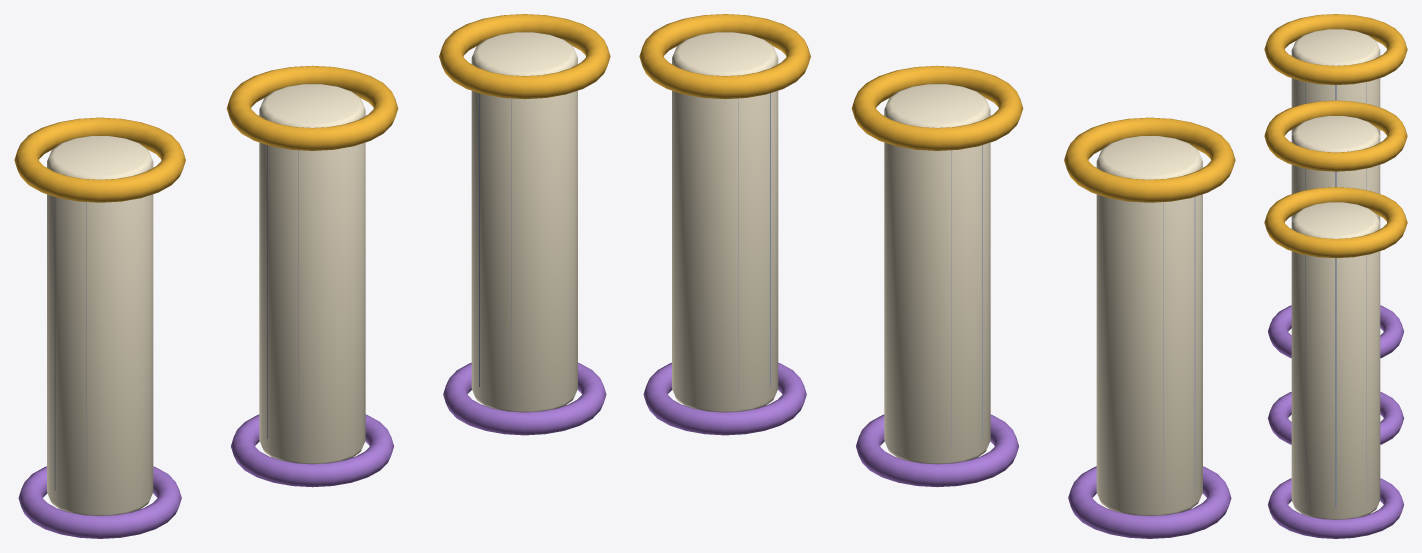
The model's file is r026_castle_columns_columns.glb.
The picture shows the model from 3 angles, left to right: view 1: azimuth 30°, elevation 25°; view 2: azimuth 150°, elevation 25°; view 3: azimuth 270°, elevation 25°; orthographic projection. The views are drawn at different scales.
Parts seen in each view (by area): view 1: r026_castle_columns_columns.001; view 2: r026_castle_columns_columns.001; view 3: r026_castle_columns_columns.001.
Boxes of the visible parts, x1,y1,x2,y2 form: r026_castle_columns_columns.001: [14, 14, 610, 538]; r026_castle_columns_columns.001: [639, 14, 1235, 538]; r026_castle_columns_columns.001: [1264, 14, 1407, 538].
Size of the model in its own units: 6.48 by 3.89 by 1.68.
